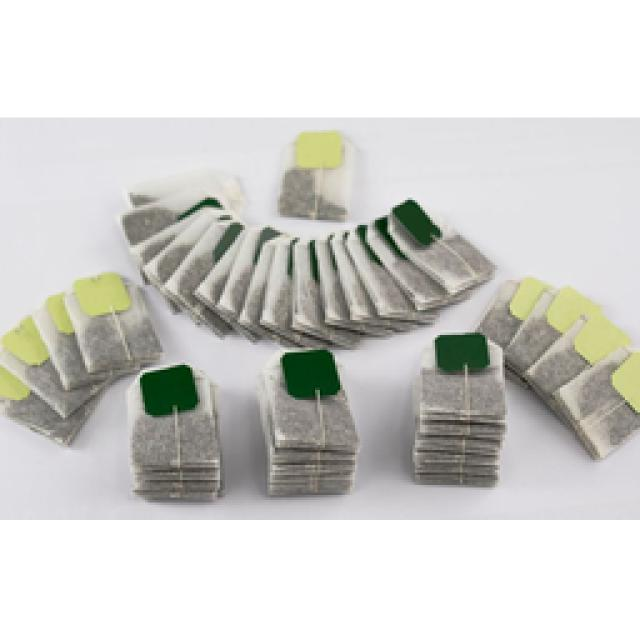tea-bags: (0, 178, 492, 500), (412, 278, 638, 482), (278, 130, 350, 218)
